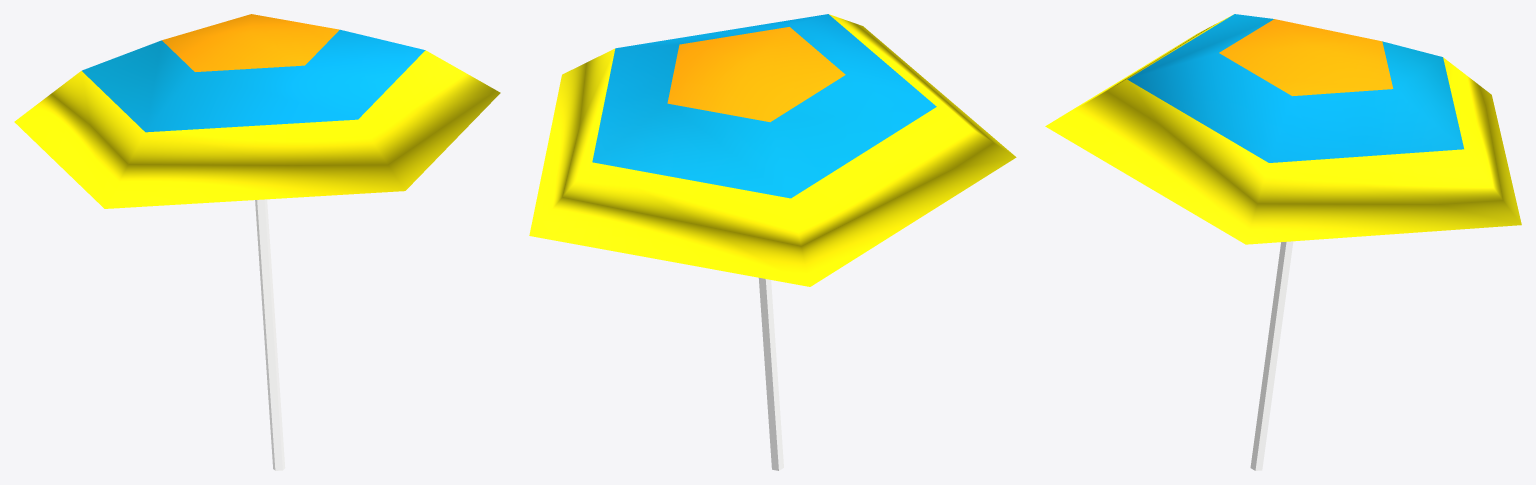
File: BeachUmbrellaYellow.glb
3 renders of one model, left to right at view 1: azimuth 30°, elevation 25°; view 2: azimuth 150°, elevation 25°; view 3: azimuth 270°, elevation 25°, orthographic. The views are drawn at different scales.
Visible parts, largest first — view 1: BeachUmbrellaYellow; view 2: BeachUmbrellaYellow; view 3: BeachUmbrellaYellow.
Boxes of the visible parts, x1,y1,x2,y2 form: BeachUmbrellaYellow: (14, 14, 500, 470); BeachUmbrellaYellow: (529, 14, 1016, 470); BeachUmbrellaYellow: (1045, 14, 1521, 470).
Size of the model in its own units: 2.41 by 2.28 by 2.35.
1 material, 1 textured.
